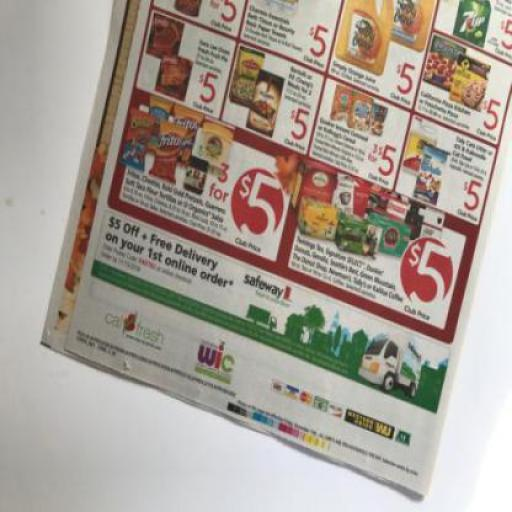paper: (39, 1, 511, 497)
